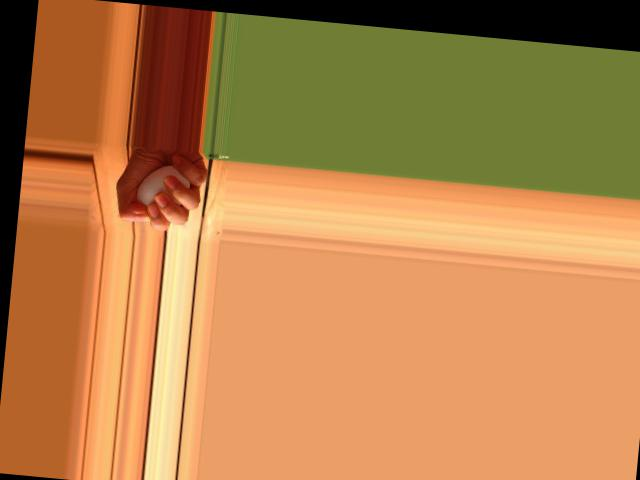egg: (135, 161, 192, 209)
